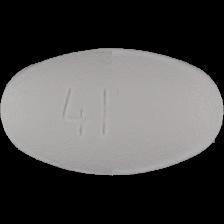63629-3708: (0, 0, 224, 224)
